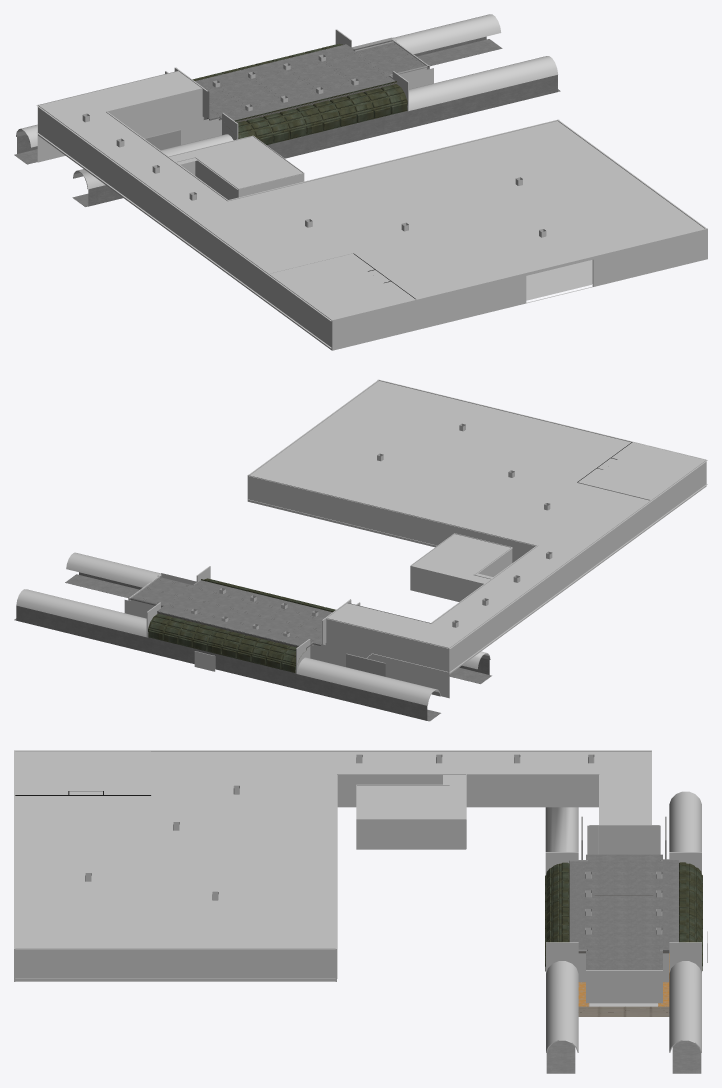
Rendered from BaseBuilding.fbx.
3 views of the same model, one above another, from view 1: azimuth 30°, elevation 25°; view 2: azimuth 150°, elevation 25°; view 3: azimuth 270°, elevation 25° (orthographic). The views are drawn at different scales.
Parts seen in each view (by area): view 1: pCube122, polySurface84, polySurface70, polySurface74, polySurface58, polySurface60, polySurface102, polySurface104, polySurface73, polySurface52, pCube113, polySurface48 (+6 smaller); view 2: pCube122, polySurface74, polySurface70, polySurface83, polySurface47, polySurface73, polySurface108, polySurface102, polySurface50, polySurface52, polySurface104, polySurface78 (+6 smaller); view 3: pCube122, polySurface70, polySurface85, polySurface102, polySurface75, polySurface81, polySurface52, polySurface104, polySurface69, polySurface50, polySurface60, polySurface105 (+8 smaller).
Part boxes in pixels (box(x1,y1,x2,y2)): pCube122: box(36, 71, 704, 321); polySurface84: box(333, 228, 707, 350); polySurface70: box(195, 40, 428, 121); polySurface74: box(38, 104, 332, 350); polySurface58: box(88, 75, 557, 206); polySurface60: box(229, 81, 407, 145); polySurface102: box(270, 253, 414, 319); polySurface104: box(392, 56, 558, 111); polySurface73: box(37, 70, 209, 162); polySurface52: box(335, 14, 501, 54); pCube113: box(36, 132, 592, 348); polySurface48: box(14, 39, 502, 164); pCube122: box(248, 381, 707, 648); polySurface74: box(448, 459, 706, 674); polySurface70: box(129, 577, 332, 648); polySurface83: box(247, 474, 536, 562); polySurface47: box(16, 605, 427, 720); polySurface73: box(321, 599, 449, 698); polySurface108: box(148, 612, 306, 672); polySurface102: box(577, 442, 704, 499); polySurface50: box(296, 639, 440, 705); polySurface52: box(16, 589, 160, 637); polySurface104: box(66, 552, 210, 587); polySurface78: box(410, 565, 483, 601); pCube122: box(14, 750, 651, 949); polySurface70: box(569, 854, 678, 969); polySurface85: box(14, 948, 335, 981); polySurface102: box(15, 751, 150, 794); polySurface75: box(466, 773, 599, 807); polySurface81: box(356, 819, 465, 849); polySurface52: box(669, 942, 701, 1052); polySurface104: box(546, 942, 578, 1052); polySurface69: box(586, 970, 662, 1003); polySurface50: box(669, 791, 701, 874); polySurface60: box(545, 861, 569, 971); polySurface105: box(545, 807, 578, 874).
Bounding box in the file's own units: 245 × 35.44 × 286.
